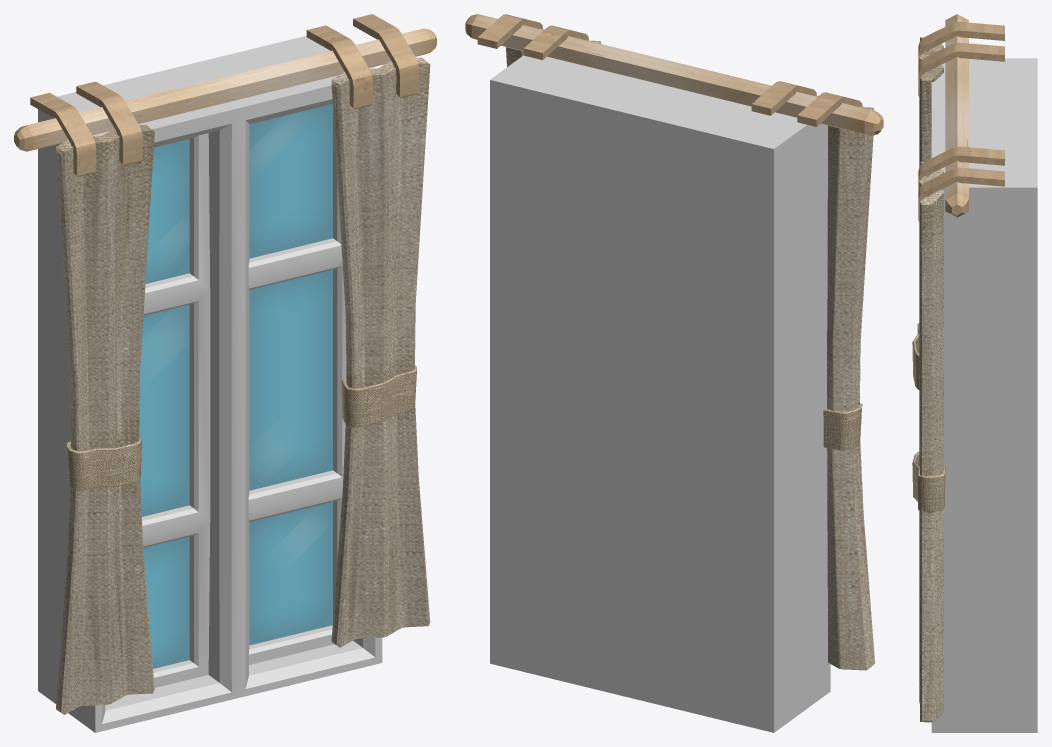
File: room_window.fbx
3 views of the same model, side by side, from view 1: azimuth 30°, elevation 25°; view 2: azimuth 150°, elevation 25°; view 3: azimuth 270°, elevation 25° (orthographic). The views are drawn at different scales.
Parts seen in each view (by area): view 1: room_window; view 2: room_window; view 3: room_window.
Part boxes in pixels (box(x1,y1,x2,y2)): room_window: box(14, 14, 436, 732); room_window: box(465, 14, 883, 732); room_window: box(912, 14, 1037, 732).
Size of the model in its own units: 93.8 by 132 by 26.34.
1 material, 1 textured.
